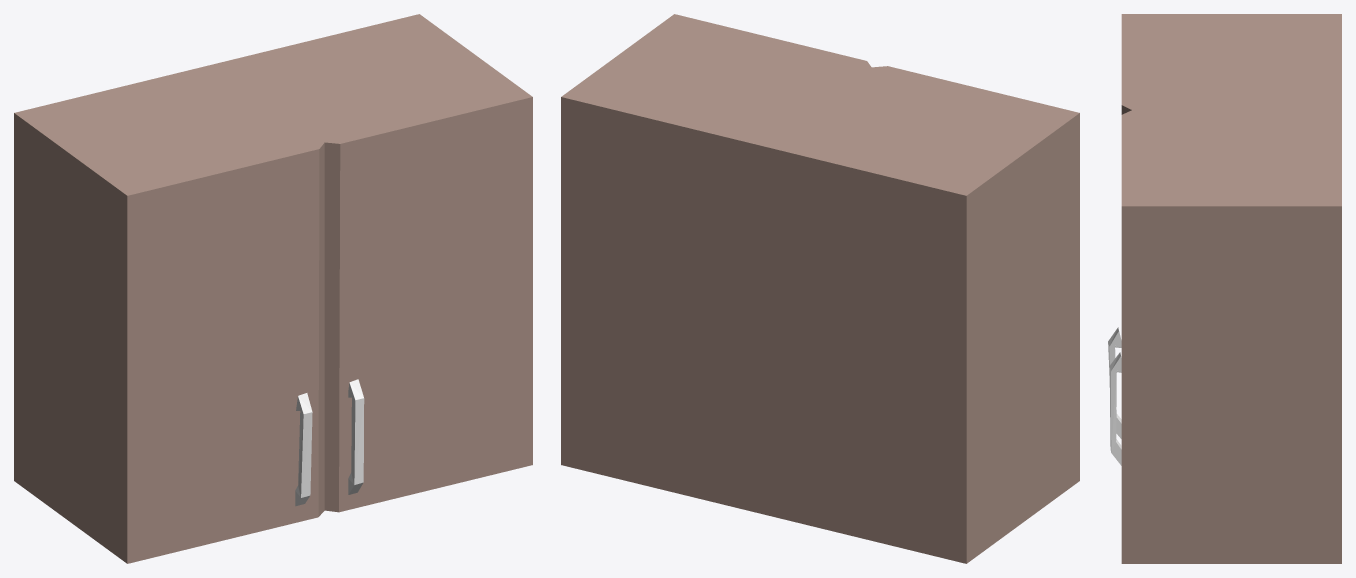
File: maincab.fbx
3 renders of one model, left to right at view 1: azimuth 30°, elevation 25°; view 2: azimuth 150°, elevation 25°; view 3: azimuth 270°, elevation 25°, orthographic. The views are drawn at different scales.
Parts seen in each view (by area): view 1: cab; view 2: cab; view 3: cab.
Boxes of the visible parts, x1,y1,x2,y2 form: cab: (14, 14, 532, 563); cab: (561, 14, 1079, 563); cab: (1108, 14, 1341, 563).
Size of the model in its own units: 72.22 by 62.66 by 37.13.
